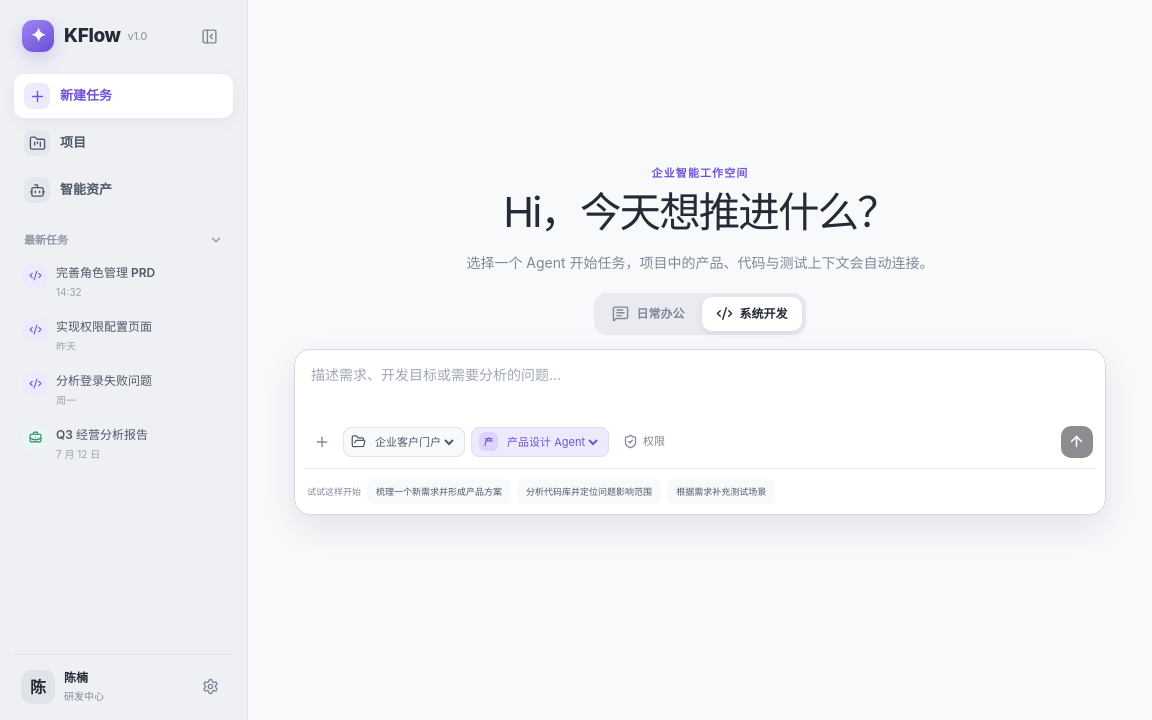
it: enterprise AI client demo › shows all governed smart asset categories
The image size is (1152, 720).
Click the button "智能资产": {"x": 124, "y": 190} left=14, top=168, right=233, bottom=212
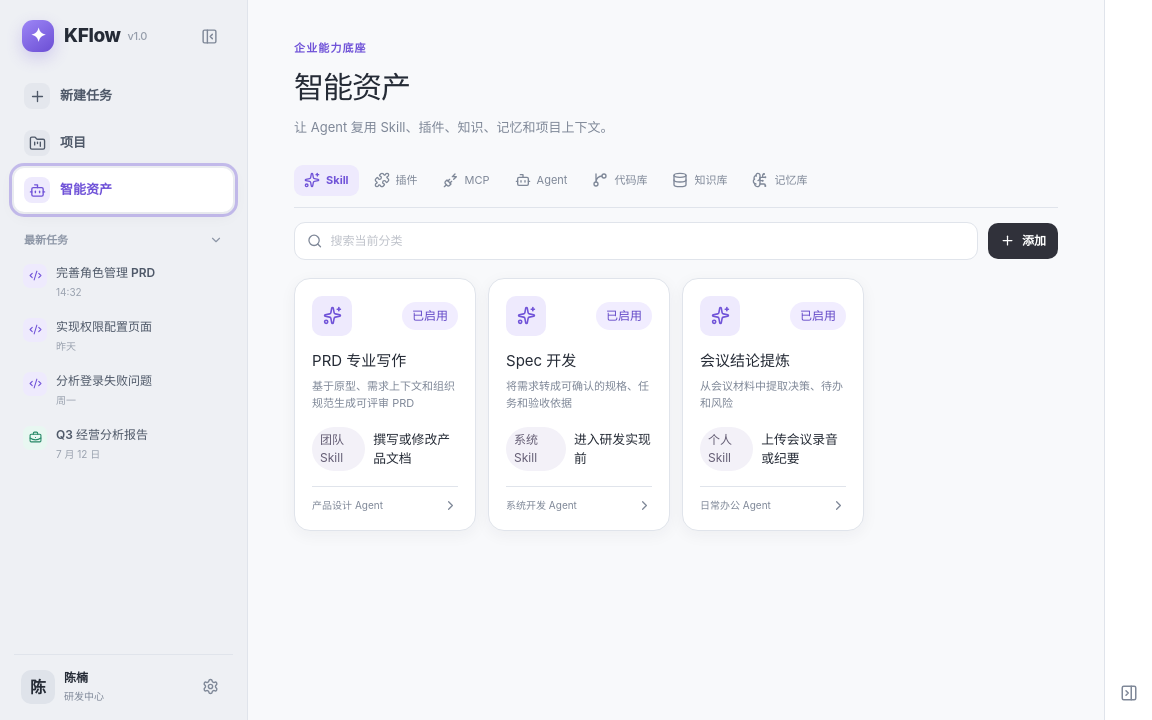
Expected: the tab "Skill" is shown, left=294, top=165, right=359, bottom=196
Expected: the tab "插件" is shown, left=364, top=165, right=428, bottom=196
Expected: the tab "MCP" is shown, left=433, top=165, right=500, bottom=196
